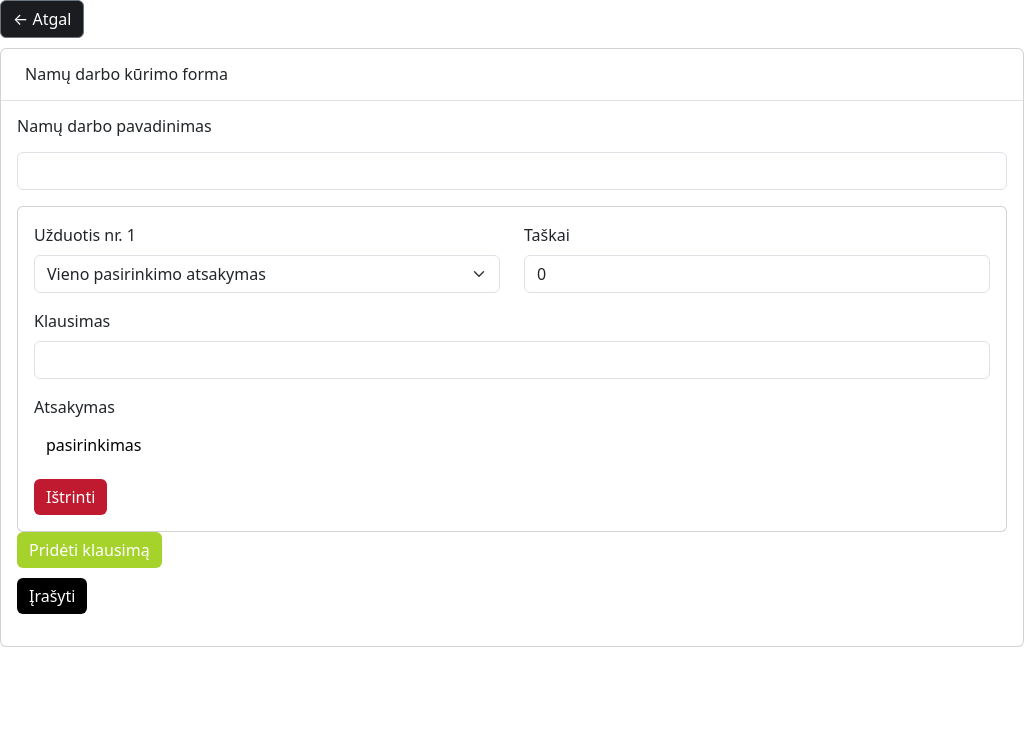
Scenario: AddHomework component › adds a new question when "Pridėti klausimą" button is clicked
The width and height of the screenshot is (1024, 754).
Click the button "Pridėti klausimą". click: click(89, 550)
box: [17,532,162,568]
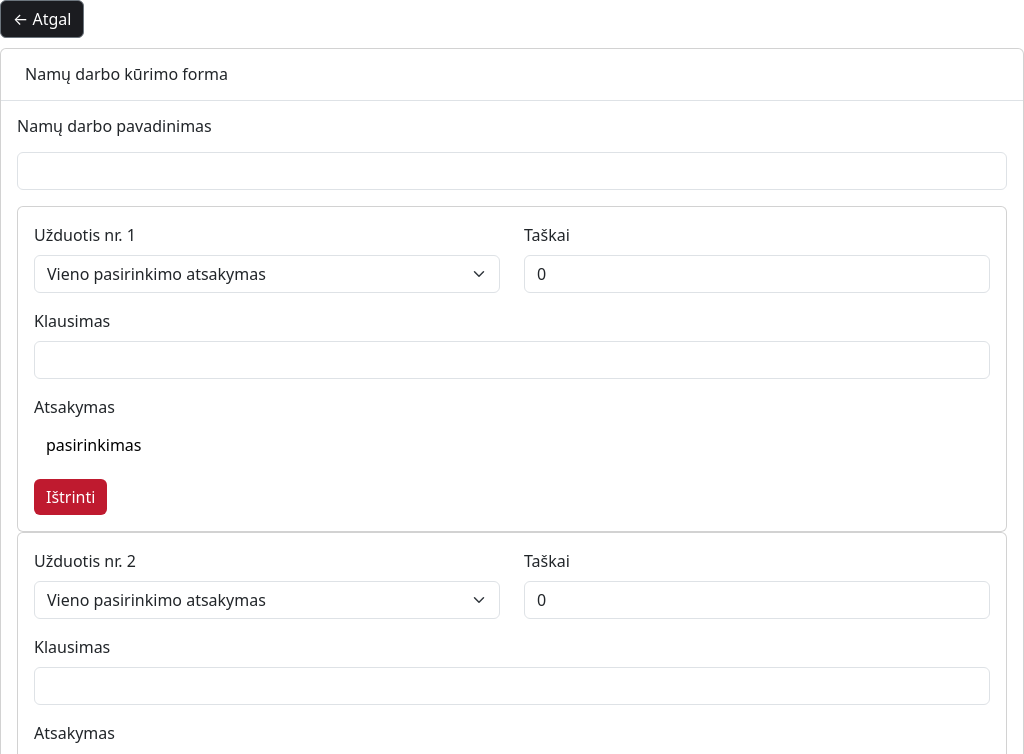
expect the number of fields labelled "Klausimas" is 2: met, box [34,341,990,379]; [34,667,990,705]
